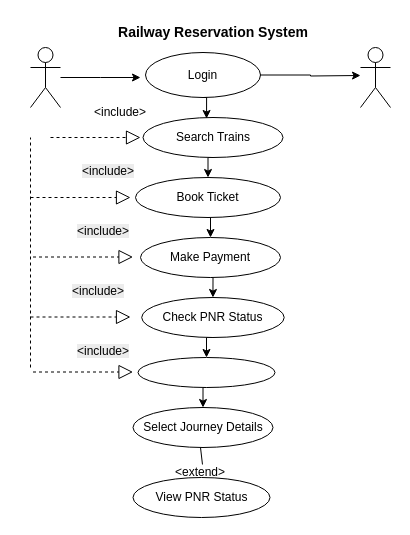
The diagram is 410 pixels wide and 535 high, and some of its shapes have lost their labels. The shapes that lost their labels are listed below. From the top down, each one's box as (x1, y1, x2, y2) in pixels, then its label:
(30, 46, 60, 108): Passenger
(360, 46, 390, 108): Admin
(137, 356, 275, 388): Cancel Ticket
